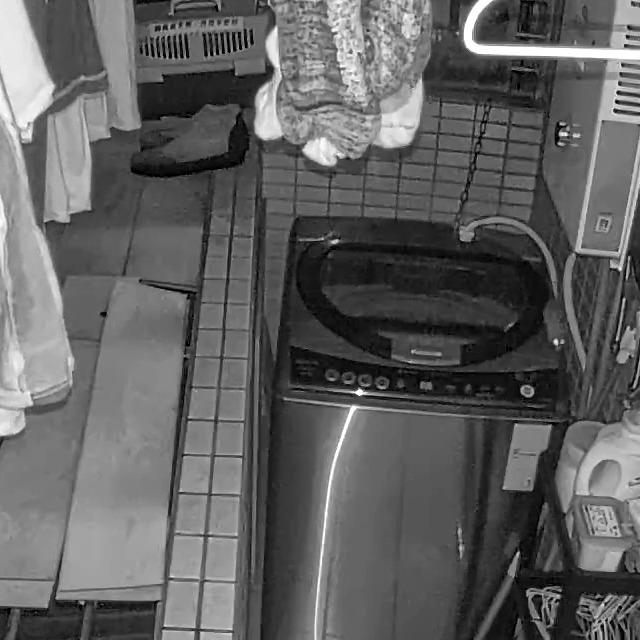rat: (542, 278, 572, 354)
